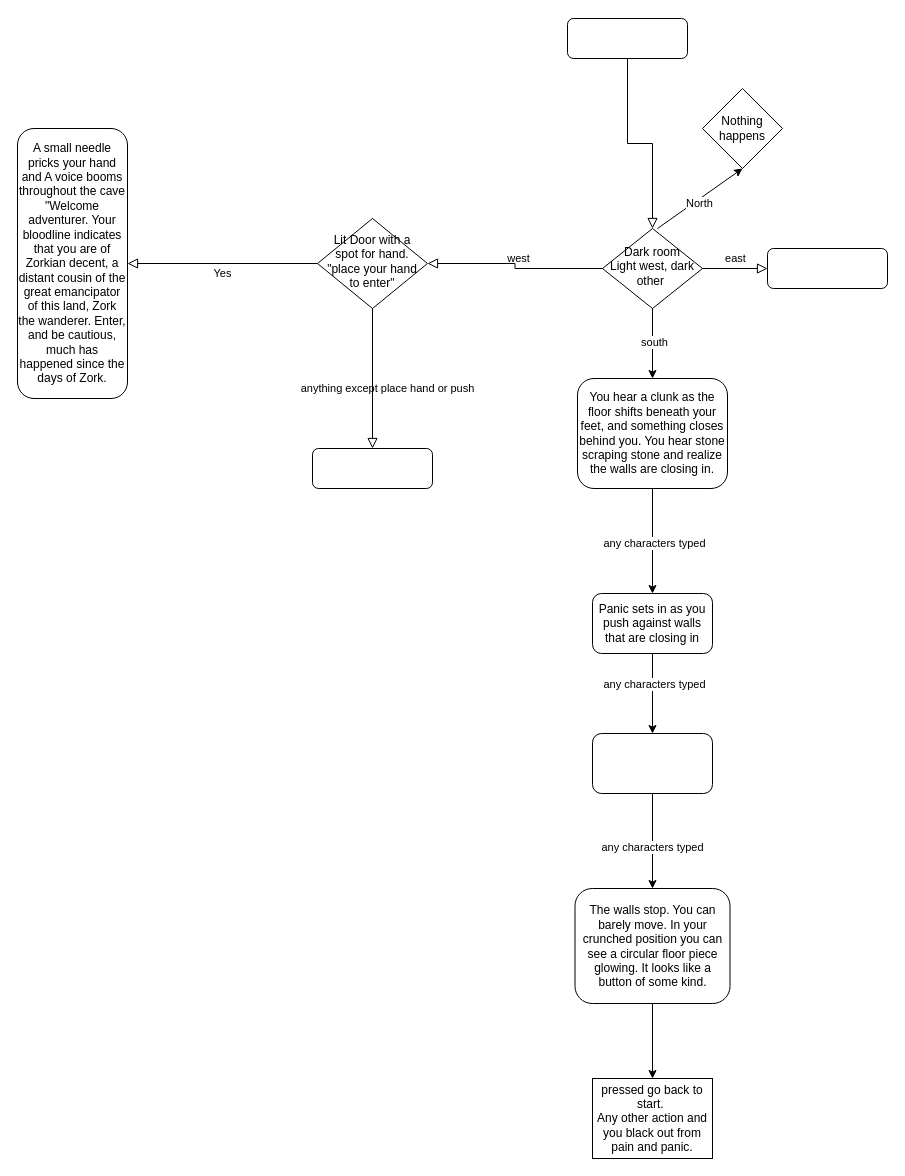
Image size: 905x1176. Some labels were removed from this diagram. Each missing label, with the centre of its shape:
"Are you sure?" belongs at [372,468].
"Begin (Welcome message with basic directions)" belongs at [627,38].
"you are forced to your knees, screaming for help" belongs at [652,763].
"You fall endlessly into the void" belongs at [827,268].
